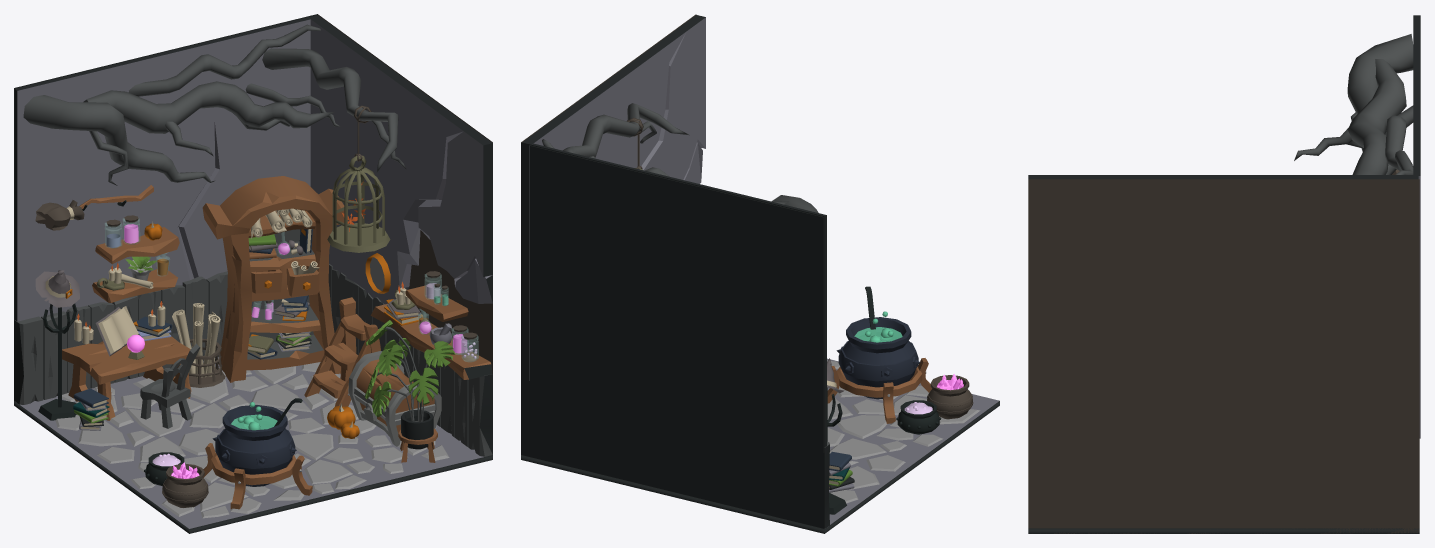
Rendered from rooms isometric.fbx.
3 views of the same model, side by side, from view 1: azimuth 30°, elevation 25°; view 2: azimuth 150°, elevation 25°; view 3: azimuth 270°, elevation 25° (orthographic). The views are drawn at different scales.
Visible parts, largest first — view 1: pCube128, polySurface180, polySurface331, polySurface474, polySurface128, polySurface126, polySurface317, polySurface324, polySurface379, pCube24, polySurface224, polySurface478 (+26 smaller); view 2: pPlane2, polySurface180, polySurface126, polySurface474, polySurface224, polySurface331, pCube128, polySurface268, polySurface263, pSphere31, pPlane49, pCube210; view 3: pPlane6, polySurface331, polySurface126, polySurface180, pCube128.
Boxes of the visible parts, x1,y1,x2,y2 form: pCube128: (14, 17, 310, 321); polySurface180: (308, 15, 492, 304); polySurface331: (23, 24, 405, 185); polySurface474: (55, 362, 449, 518); polySurface128: (202, 176, 344, 382); polySurface126: (14, 357, 492, 533); polySurface317: (14, 271, 227, 404); polySurface324: (328, 264, 492, 456); polySurface379: (364, 320, 455, 449); pCube24: (62, 336, 191, 420); polySurface224: (215, 405, 295, 486); polySurface478: (327, 155, 390, 252); pPlane2: (521, 142, 824, 528); polySurface180: (522, 15, 705, 183); polySurface126: (521, 358, 999, 533); polySurface474: (827, 360, 980, 503); polySurface224: (838, 317, 918, 399); polySurface331: (542, 103, 818, 212); pCube128: (529, 143, 826, 452); polySurface268: (827, 358, 931, 423); polySurface263: (927, 375, 972, 419); pSphere31: (896, 400, 941, 434); pPlane49: (829, 451, 854, 492); pCube210: (854, 311, 902, 342); pPlane6: (1028, 179, 1419, 533); polySurface331: (1294, 34, 1413, 174); polySurface126: (1028, 528, 1419, 533); polySurface180: (1028, 175, 1418, 179); pCube128: (1413, 15, 1420, 438).
Size of the model in its own units: 320 by 320 by 321.
